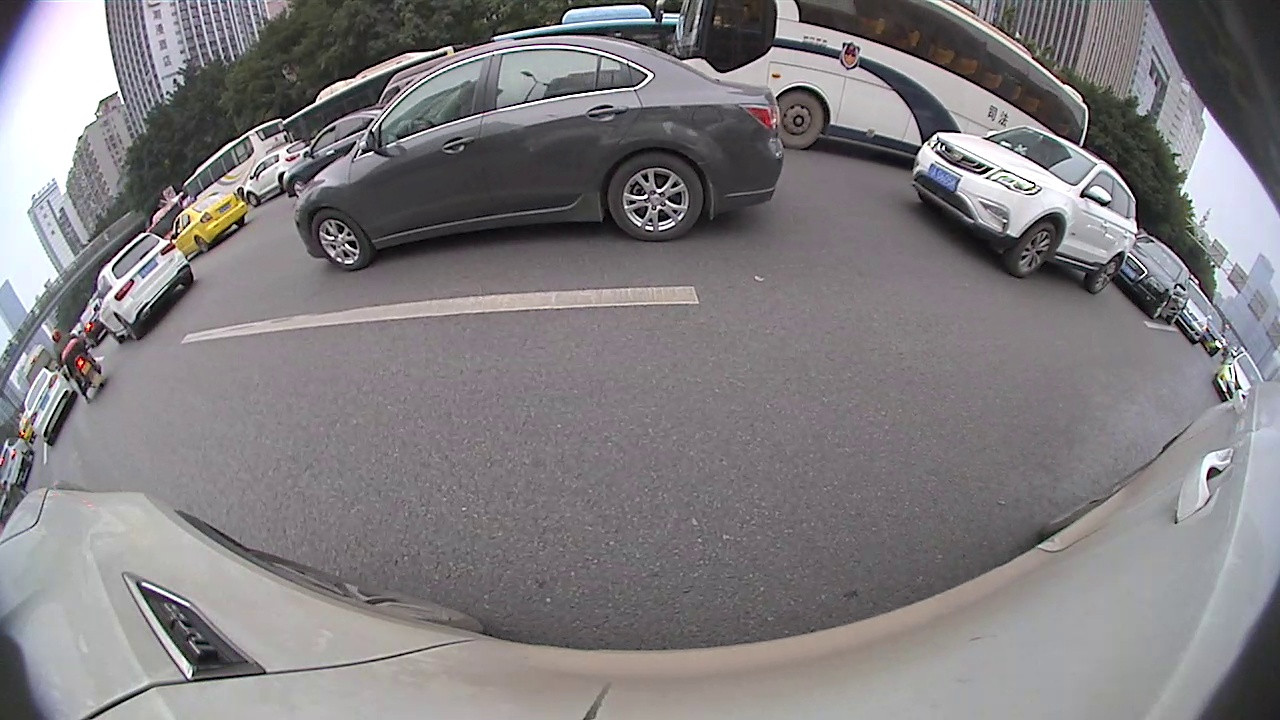bus: (669, 1, 1092, 150), (281, 39, 459, 139), (180, 114, 284, 199)
car: (294, 32, 785, 274), (913, 123, 1138, 296), (94, 225, 193, 346), (284, 110, 388, 209), (1120, 231, 1190, 336), (170, 192, 250, 257), (241, 137, 310, 205), (22, 366, 72, 449), (1213, 345, 1268, 407), (1176, 277, 1213, 346), (0, 439, 35, 489), (1199, 300, 1228, 356)
front: (311, 213, 367, 271), (773, 92, 825, 148), (1007, 222, 1056, 277), (1149, 296, 1168, 318)
rear: (606, 155, 704, 242), (1085, 256, 1125, 294), (115, 315, 141, 339), (193, 236, 209, 251)
rider: (49, 332, 105, 401)
